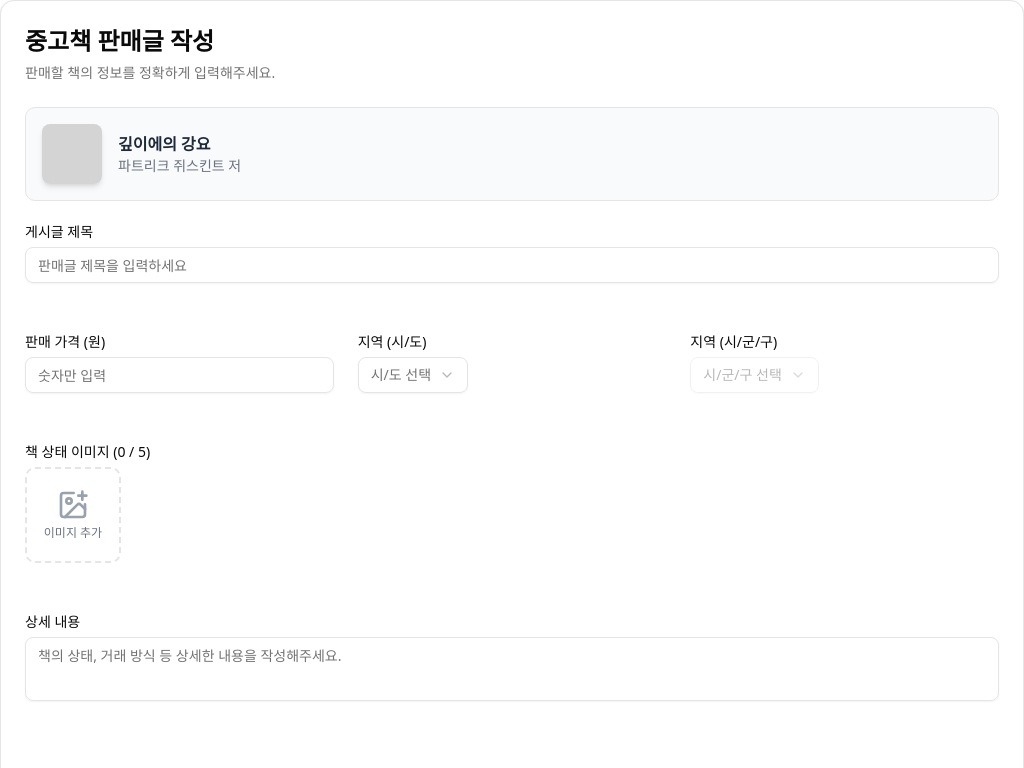
BookSaleForm › 가격 필드 유효성 검사 › 가격이 비어있을 때 에러 메시지를 표시해야 한다
Click the number field with placeholder "숫자만 입력".
click(179, 375)  # box [25,357,334,393]
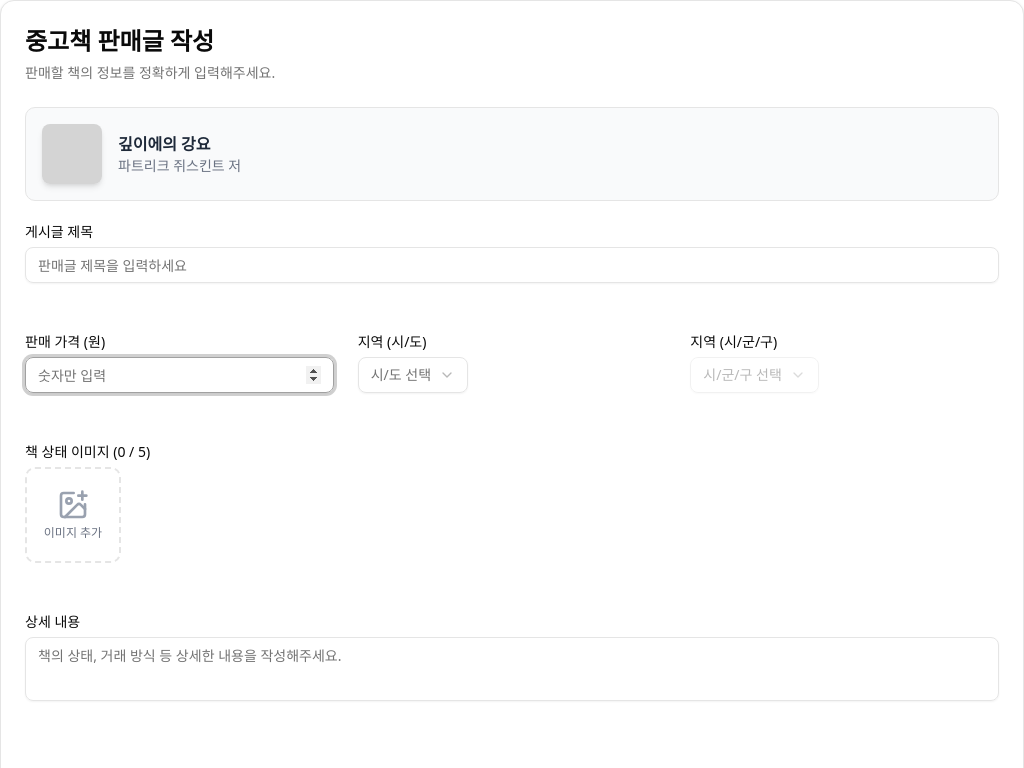
Press Tab
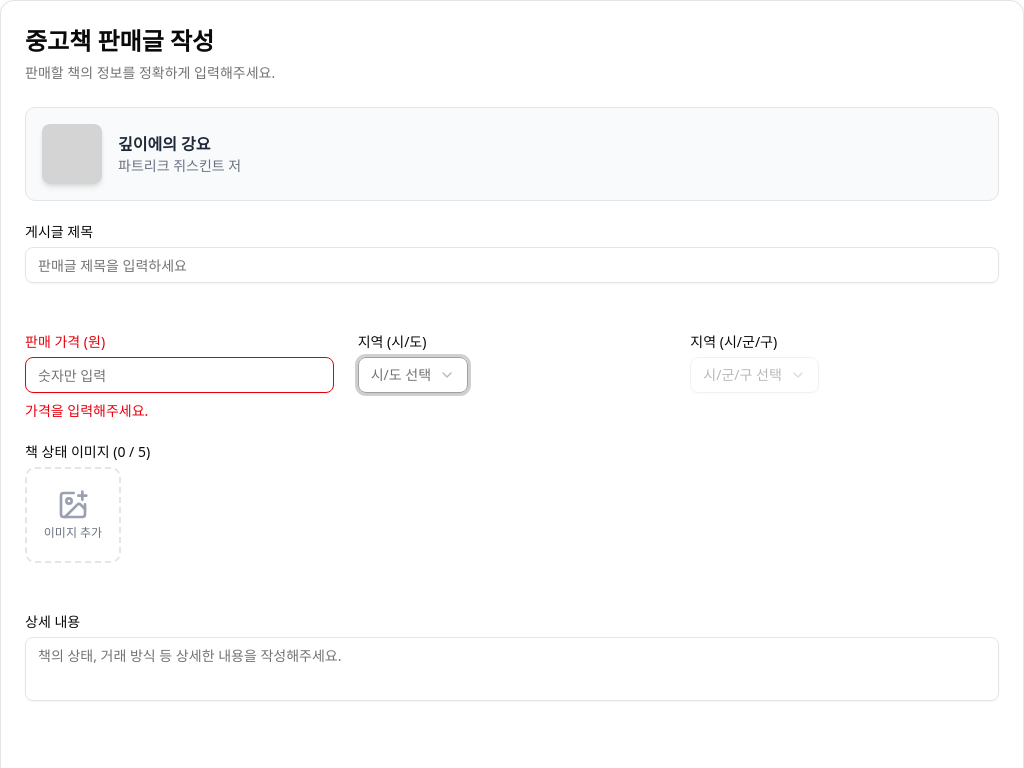
Expected: the text "가격을 입력해주세요." is shown, [25,401,148,420]
